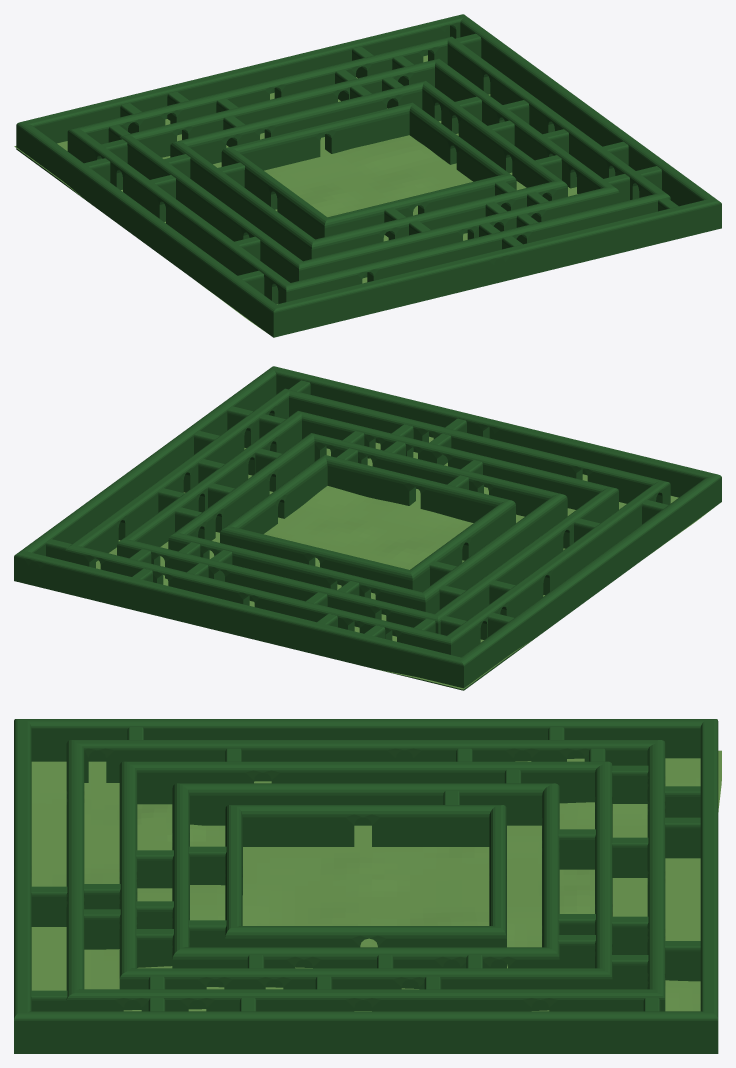
Rendered from Maze 13.fbx.
3 renders of one model, top to bottom at view 1: azimuth 30°, elevation 25°; view 2: azimuth 150°, elevation 25°; view 3: azimuth 270°, elevation 25°, orthographic. The views are drawn at different scales.
Parts seen in each view (by area): view 1: Walls 1.013, Walls 2.013, Walls 3.013, Walls 4.014, Walls 5.013, Floor.014; view 2: Walls 1.013, Walls 2.013, Walls 3.013, Walls 4.014, Walls 5.013, Floor.014; view 3: Walls 1.013, Floor.014, Walls 2.013, Walls 3.013, Walls 4.014, Walls 5.013, Bush Blocker.394, Bush Blocker.398, Bush Blocker.397, Bush Blocker.381, Bush Blocker.383, Bush Blocker.393 (+13 smaller).
Part boxes in pixels (x1=…): Walls 1.013: x1=16, y1=14, x2=721, y2=337; Walls 2.013: x1=67, y1=36, x2=670, y2=303; Walls 3.013: x1=119, y1=58, x2=619, y2=282; Walls 4.014: x1=170, y1=80, x2=567, y2=261; Walls 5.013: x1=221, y1=102, x2=516, y2=239; Floor.014: x1=14, y1=55, x2=577, y2=331; Walls 1.013: x1=14, y1=366, x2=721, y2=690; Walls 2.013: x1=65, y1=388, x2=670, y2=657; Walls 3.013: x1=117, y1=411, x2=618, y2=636; Walls 4.014: x1=168, y1=433, x2=567, y2=614; Walls 5.013: x1=220, y1=455, x2=515, y2=593; Floor.014: x1=96, y1=436, x2=714, y2=689; Walls 1.013: x1=14, y1=719, x2=718, y2=1053; Floor.014: x1=31, y1=750, x2=721, y2=1011; Walls 2.013: x1=66, y1=740, x2=665, y2=1011; Walls 3.013: x1=119, y1=761, x2=612, y2=1010; Walls 4.014: x1=172, y1=783, x2=559, y2=988; Walls 5.013: x1=225, y1=805, x2=506, y2=968; Bush Blocker.394: x1=665, y1=817, x2=700, y2=858; Bush Blocker.398: x1=558, y1=829, x2=595, y2=869; Bush Blocker.397: x1=611, y1=837, x2=648, y2=877; Bush Blocker.381: x1=31, y1=886, x2=67, y2=926; Bush Blocker.383: x1=84, y1=909, x2=120, y2=949; Bush Blocker.393: x1=665, y1=941, x2=700, y2=981.
Bounding box in the file's own units: 6009 × 368 × 5992.
